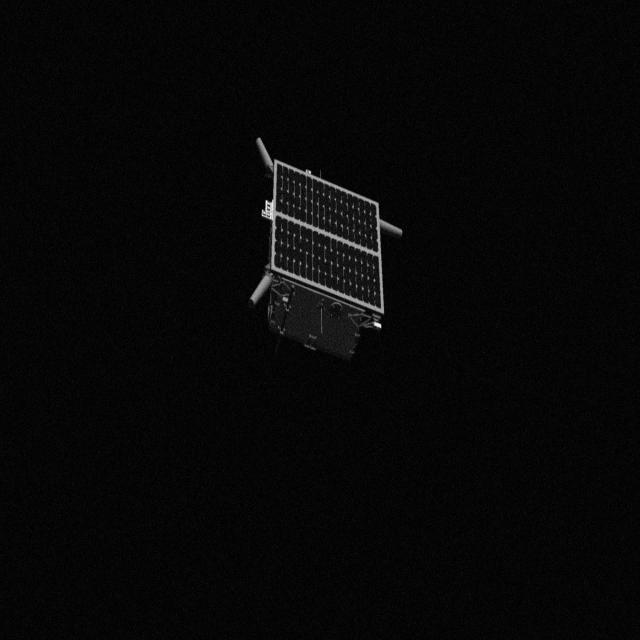satellite: (250, 128, 410, 364)
